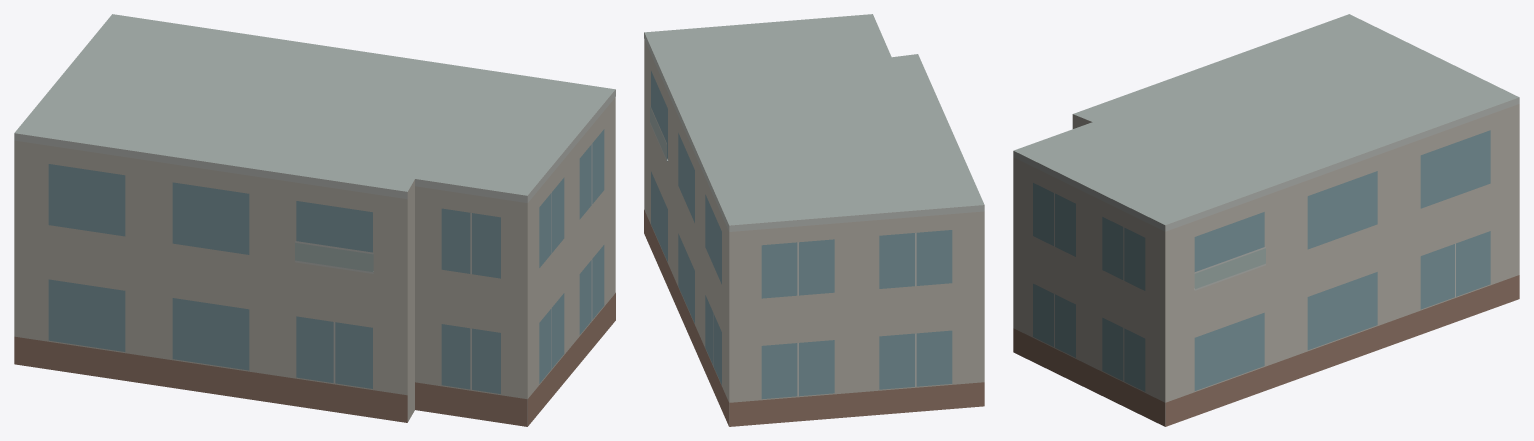
Rendered from survey-upis-32640429.glb.
3 views of the same model, side by side, from view 1: azimuth 30°, elevation 25°; view 2: azimuth 150°, elevation 25°; view 3: azimuth 270°, elevation 25° (orthographic). The views are drawn at different scales.
Parts seen in each view (by area): view 1: survey-upis-32640429.tmp; view 2: survey-upis-32640429.tmp; view 3: survey-upis-32640429.tmp.
Boxes of the visible parts, x1,y1,x2,y2 form: survey-upis-32640429.tmp: (14,14,615,426); survey-upis-32640429.tmp: (644,14,984,426); survey-upis-32640429.tmp: (1013,14,1519,426).
Size of the model in its own units: 17.09 by 7.6 by 17.3.
